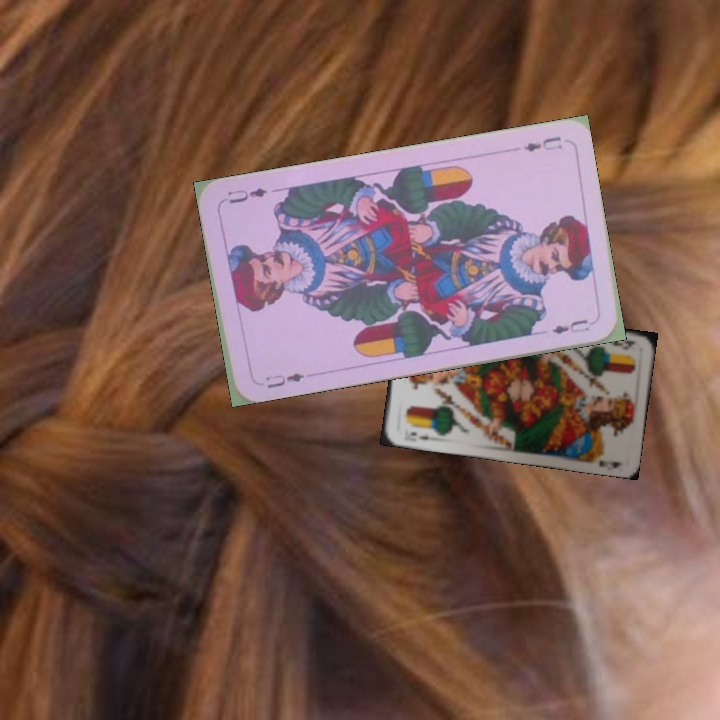EK: (606, 335, 638, 352), (406, 427, 437, 444)
EU: (252, 368, 307, 391), (520, 132, 565, 155)
